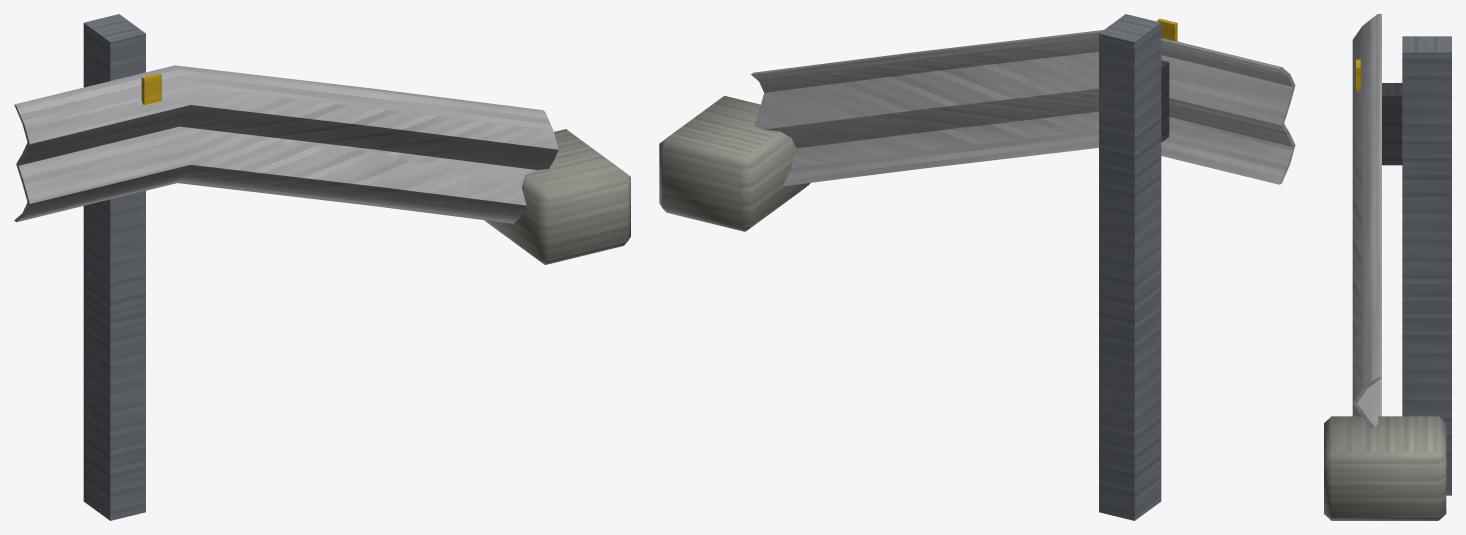
Rendered from guard_rail_ponta.glb.
3 views of the same model, side by side, from view 1: azimuth 30°, elevation 25°; view 2: azimuth 150°, elevation 25°; view 3: azimuth 270°, elevation 25° (orthographic). The views are drawn at different scales.
Visible parts, largest first — view 1: Inteiro, Peca_00, Peca_01; view 2: Inteiro, Peca_00; view 3: Inteiro, Peca_00.
Boxes of the visible parts, bbox=[...] form: Inteiro: bbox=[14, 14, 630, 520]; Peca_00: bbox=[14, 68, 557, 223]; Peca_01: bbox=[86, 14, 160, 520]; Inteiro: bbox=[659, 14, 1295, 520]; Peca_00: bbox=[754, 30, 1295, 186]; Inteiro: bbox=[1324, 14, 1451, 520]; Peca_00: bbox=[1353, 243, 1381, 426].
Size of the model in its own units: 1.65 by 1.28 by 0.335.
1 material, 1 textured.
